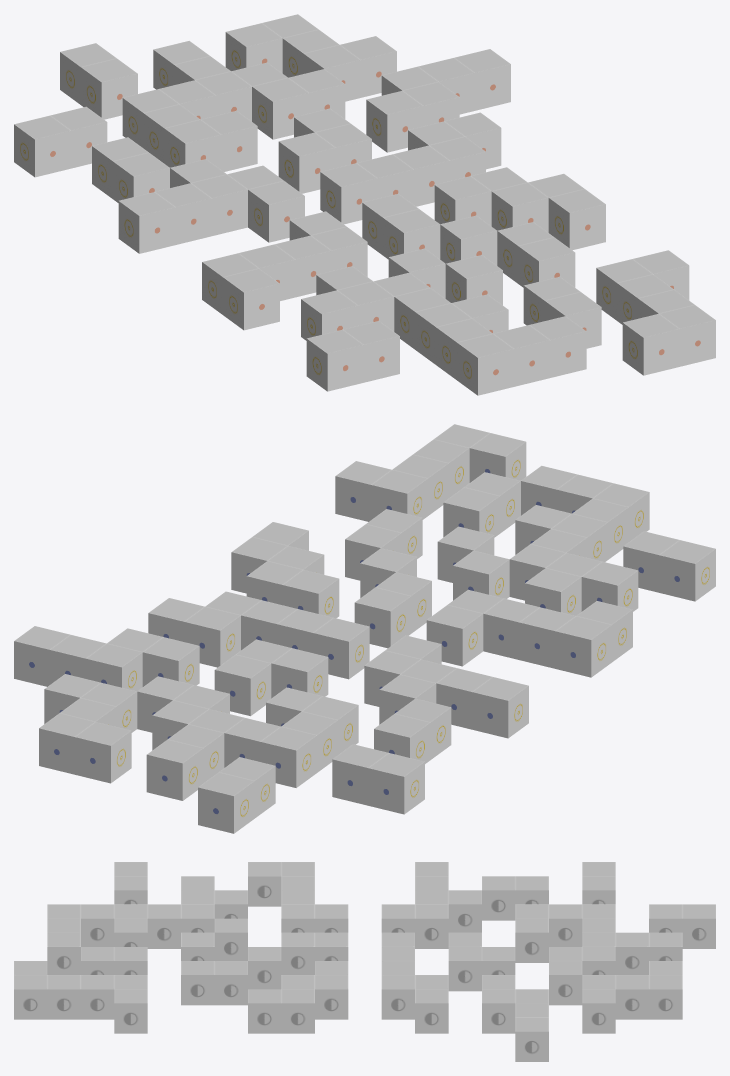
Rendered from Maze Walls White.obj.
The picture shows the model from 3 angles, top to bottom: view 1: azimuth 30°, elevation 25°; view 2: azimuth 150°, elevation 25°; view 3: azimuth 270°, elevation 25°; orthographic projection. The views are drawn at different scales.
Visible parts, largest first — view 1: pCube203; view 2: pCube203; view 3: pCube203.
Part boxes in pixels (bbox=[...]): pCube203: bbox=[14, 14, 715, 395]; pCube203: bbox=[14, 424, 715, 833]; pCube203: bbox=[14, 862, 715, 1061].
Size of the model in its own units: 12 by 1 by 21.
